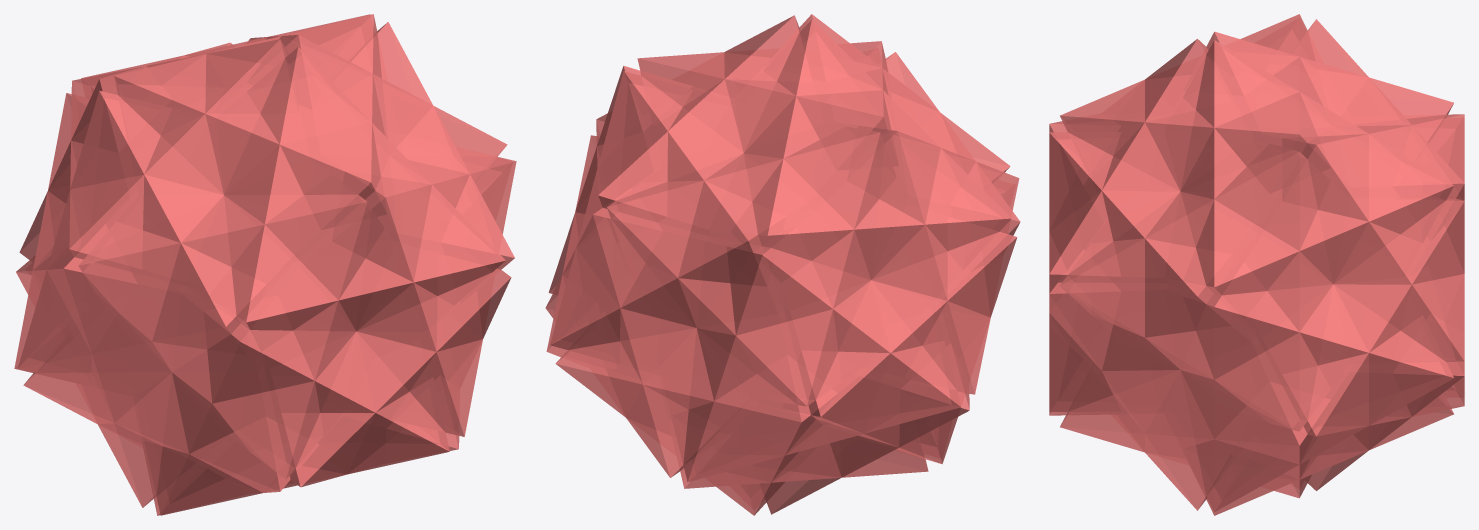
The model's file is 20_Icosagyrexcavated_Gike.obj.
3 views of the same model, side by side, from view 1: azimuth 30°, elevation 25°; view 2: azimuth 150°, elevation 25°; view 3: azimuth 270°, elevation 25° (orthographic). The views are drawn at different scales.
Size of the model in its own units: 1.73 by 1.8 by 1.47.
